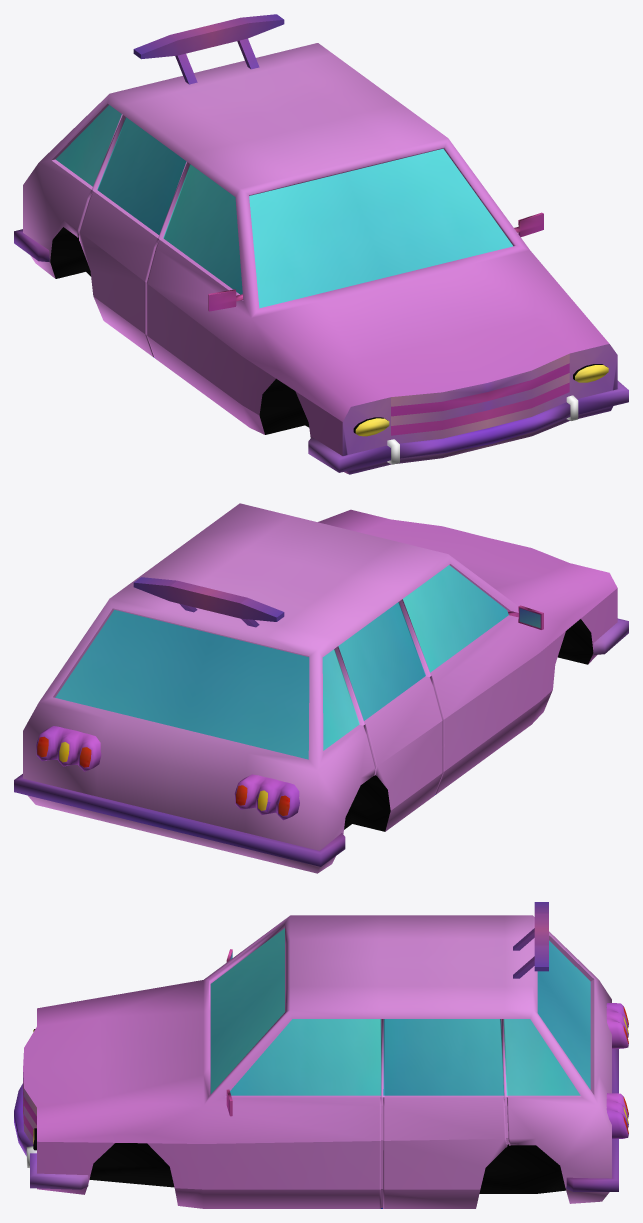
Rendered from Car_8.fbx.
3 renders of one model, top to bottom at view 1: azimuth 30°, elevation 25°; view 2: azimuth 150°, elevation 25°; view 3: azimuth 270°, elevation 25°, orthographic. The views are drawn at different scales.
Visible parts, largest first — view 1: Car_8; view 2: Car_8; view 3: Car_8.
Part boxes in pixels (box(x1,y1,x2,y2)): Car_8: box(14, 14, 628, 474); Car_8: box(14, 503, 628, 873); Car_8: box(14, 902, 628, 1208).
Bounding box in the file's own units: 249 × 164 × 425.
1 material, 1 textured.
